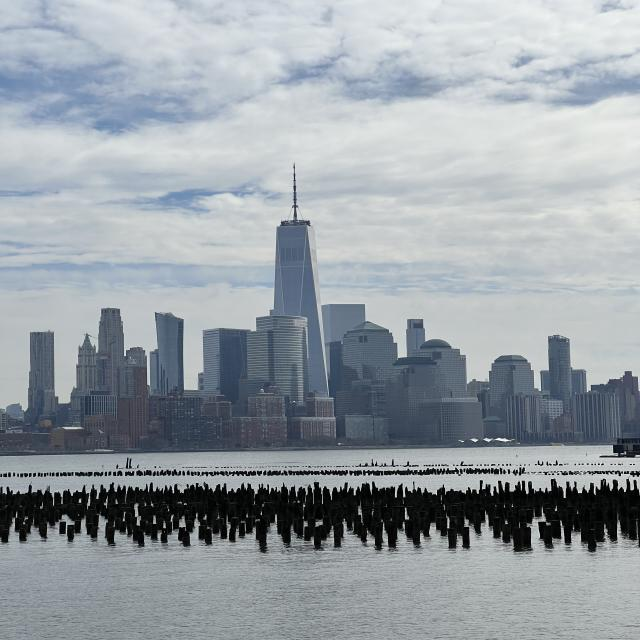WTC: (272, 160, 323, 316)
